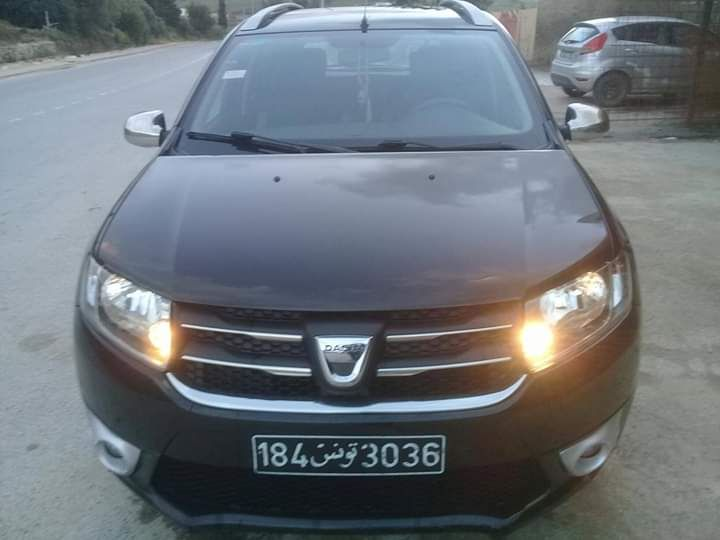LP: (249, 432, 446, 478)
